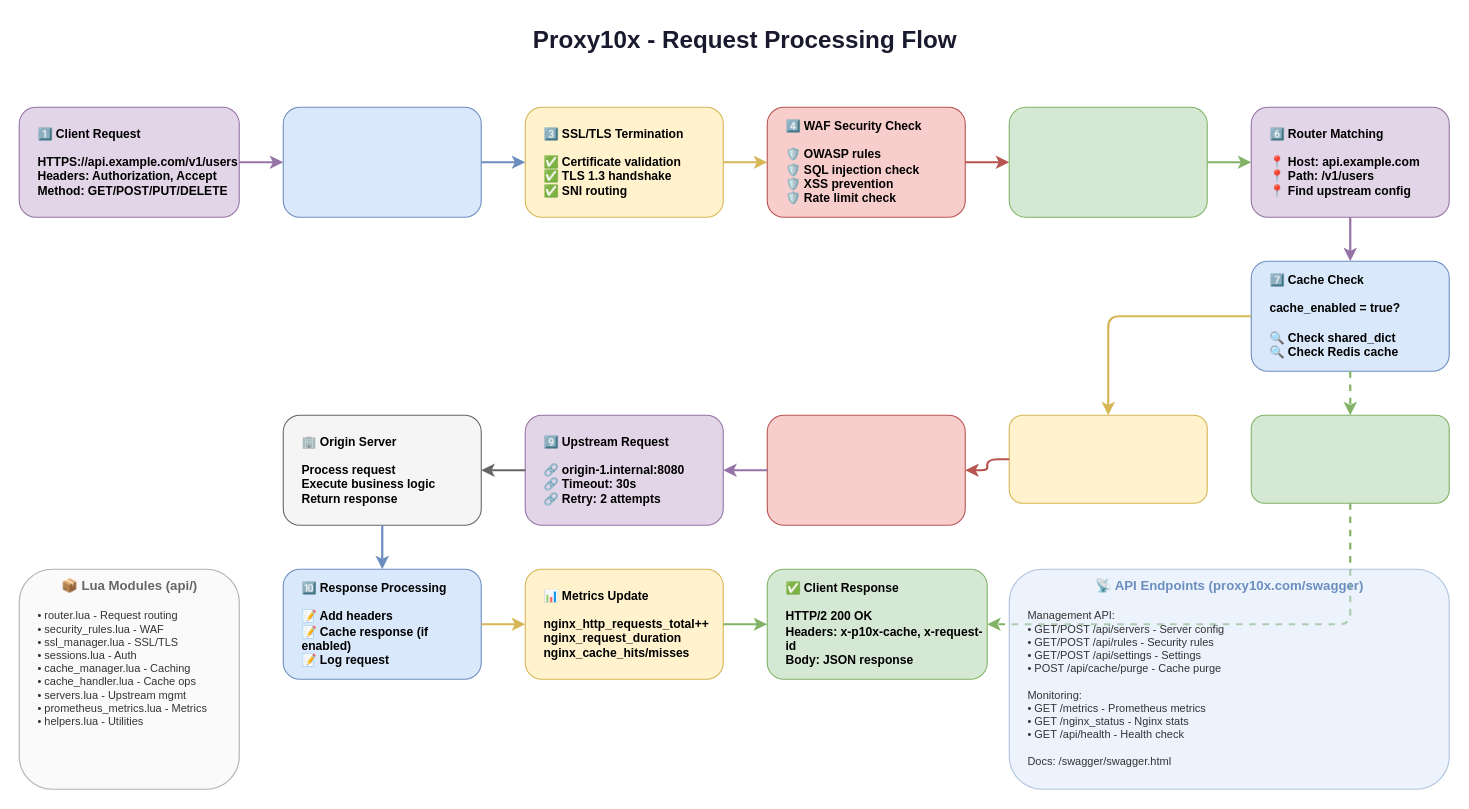
Image size: 1469x809. Some labels were removed from this diagram. Each missing label, with the box of its shape:
2️⃣ DNS Resolution api.example.com → Proxy10x IP (via proxy10x.com): (282, 106, 481, 217)
5️⃣ Authentication 🔑 JWT validation 🔑 API key check 🔑 Session lookup (Redis): (1008, 106, 1207, 217)
8️⃣ Load Balancer ⚖️ Select backend ⚖️ Health check status ⚖️ Weighted routing: (766, 414, 965, 525)
⚡ CACHE HIT Return cached response Header: x-p10x-cache: HIT: (1250, 414, 1449, 503)
💨 CACHE MISS Proceed to upstream Header: x-p10x-cache: MISS: (1008, 414, 1207, 503)
